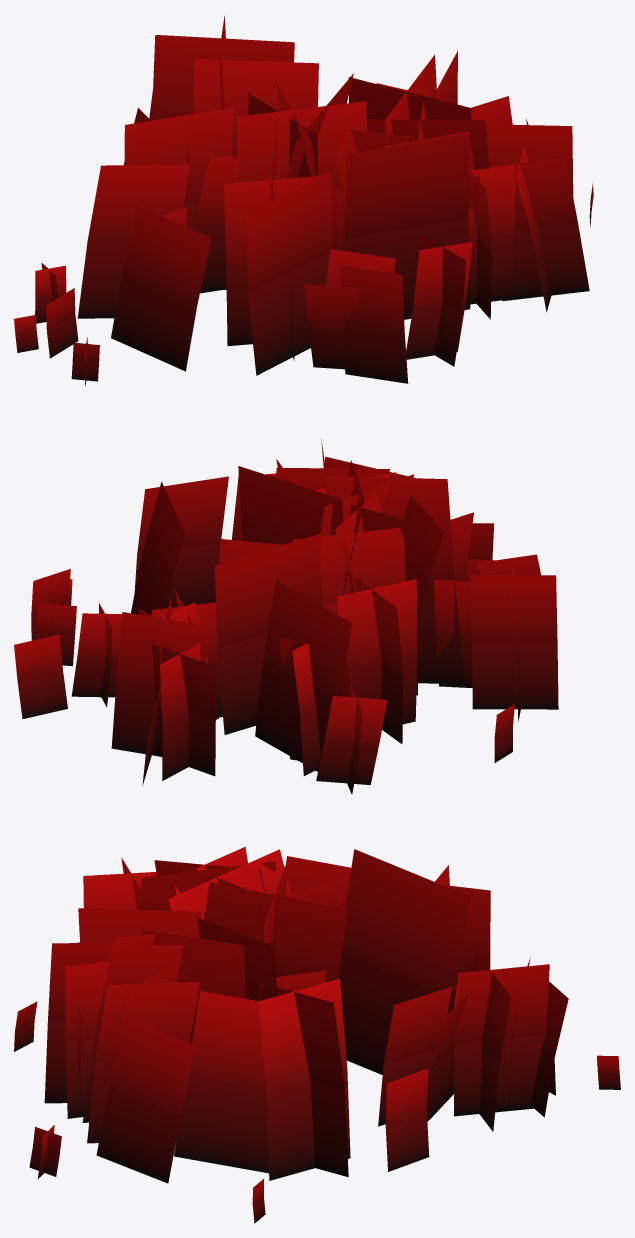
3 renders of one model, top to bottom at view 1: azimuth 30°, elevation 25°; view 2: azimuth 150°, elevation 25°; view 3: azimuth 270°, elevation 25°, orthographic. The views are drawn at different scales.
Visible parts, largest first — view 1: red algae final; view 2: red algae final; view 3: red algae final.
Part boxes in pixels (x1,y1,x2,y2): red algae final: [14, 16, 593, 386]; red algae final: [14, 439, 558, 794]; red algae final: [14, 846, 620, 1223].
Size of the model in its own units: 0.4494 by 0.1722 by 0.413.
